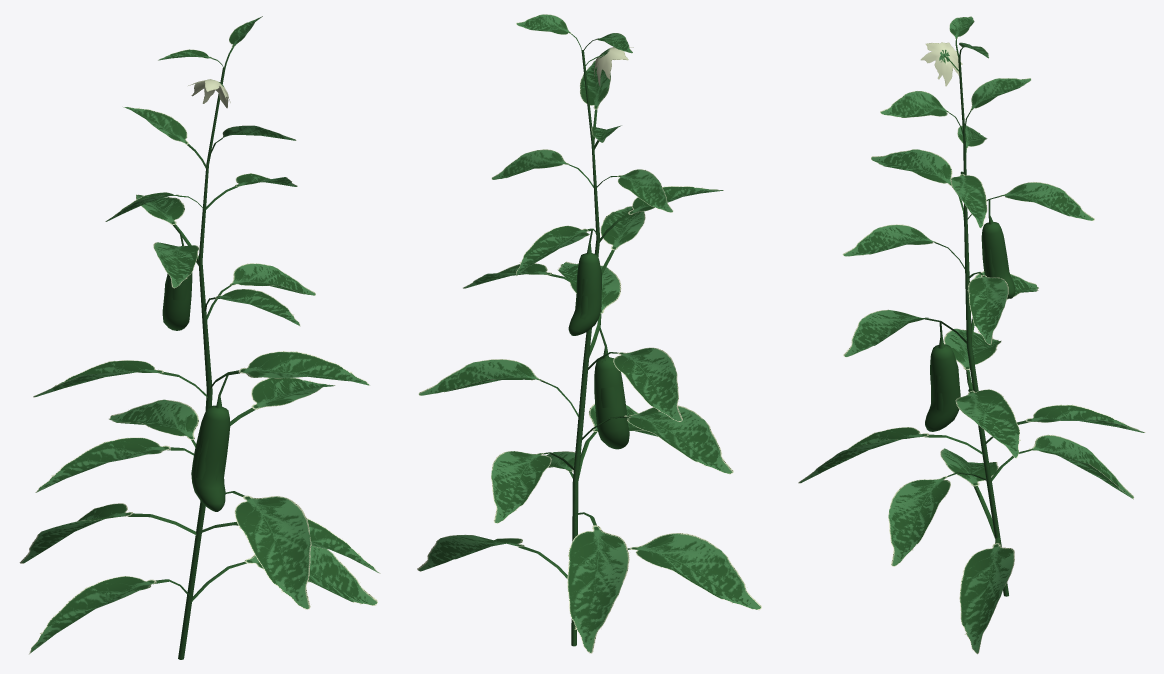
Rendered from PLANT.fbx.
3 views of the same model, side by side, from view 1: azimuth 30°, elevation 25°; view 2: azimuth 150°, elevation 25°; view 3: azimuth 270°, elevation 25° (orthographic). The views are drawn at different scales.
Parts seen in each view (by area): view 1: jalapeno_plant:LOD0LOD_0polySurface35, jalapeno_plant:LOD0LOD_0polySurface48, jalapeno_plant:LOD0LOD_0polySurface5, jalapeno_plant:LOD0LOD_0polySurface6, jalapeno_plant:LOD0LOD_0polySurface29, jalapeno_plant:LOD0LOD_0polySurface15, jalapeno_plant:LOD0LOD_0polySurface8, jalapeno_plant:LOD0LOD_0polySurface31, jalapeno_plant:LOD0LOD_0polySurface11, jalapeno_plant:LOD0LOD_0polySurface3, jalapeno_plant:LOD0LOD_0polySurface47, jalapeno_plant:LOD0LOD_0polySurface27 (+8 smaller); view 2: jalapeno_plant:LOD0LOD_0polySurface3, jalapeno_plant:LOD0LOD_0polySurface6, jalapeno_plant:LOD0LOD_0polySurface15, jalapeno_plant:LOD0LOD_0polySurface27, jalapeno_plant:LOD0LOD_0polySurface31, jalapeno_plant:LOD0LOD_0polySurface48, jalapeno_plant:LOD0LOD_0polySurface5, jalapeno_plant:LOD0LOD_0polySurface11, jalapeno_plant:LOD0LOD_0polySurface50, jalapeno_plant:LOD0LOD_0polySurface8, jalapeno_plant:LOD0LOD_0polySurface25, jalapeno_plant:LOD0LOD_0polySurface41 (+8 smaller); view 3: jalapeno_plant:LOD0LOD_0polySurface8, jalapeno_plant:LOD0LOD_0polySurface45, jalapeno_plant:LOD0LOD_0polySurface11, jalapeno_plant:LOD0LOD_0polySurface48, jalapeno_plant:LOD0LOD_0polySurface5, jalapeno_plant:LOD0LOD_0polySurface47, jalapeno_plant:LOD0LOD_0polySurface3, jalapeno_plant:LOD0LOD_0polySurface29, jalapeno_plant:LOD0LOD_0polySurface33, jalapeno_plant:LOD0LOD_0polySurface25, jalapeno_plant:LOD0LOD_0polySurface37, jalapeno_plant:LOD0LOD_0polySurface35 (+8 smaller).
Boxes of the visible parts, x1,y1,x2,y2 form: jalapeno_plant:LOD0LOD_0polySurface35: [234, 495, 311, 609]; jalapeno_plant:LOD0LOD_0polySurface48: [191, 405, 230, 511]; jalapeno_plant:LOD0LOD_0polySurface5: [178, 67, 225, 659]; jalapeno_plant:LOD0LOD_0polySurface6: [29, 576, 156, 654]; jalapeno_plant:LOD0LOD_0polySurface29: [238, 351, 369, 385]; jalapeno_plant:LOD0LOD_0polySurface15: [35, 437, 170, 492]; jalapeno_plant:LOD0LOD_0polySurface8: [244, 546, 377, 605]; jalapeno_plant:LOD0LOD_0polySurface31: [109, 399, 198, 439]; jalapeno_plant:LOD0LOD_0polySurface11: [251, 377, 335, 409]; jalapeno_plant:LOD0LOD_0polySurface3: [19, 503, 132, 563]; jalapeno_plant:LOD0LOD_0polySurface47: [230, 263, 315, 295]; jalapeno_plant:LOD0LOD_0polySurface27: [33, 360, 163, 397]; jalapeno_plant:LOD0LOD_0polySurface3: [567, 525, 629, 653]; jalapeno_plant:LOD0LOD_0polySurface6: [630, 533, 761, 609]; jalapeno_plant:LOD0LOD_0polySurface15: [624, 405, 733, 474]; jalapeno_plant:LOD0LOD_0polySurface27: [613, 347, 682, 421]; jalapeno_plant:LOD0LOD_0polySurface31: [491, 451, 551, 523]; jalapeno_plant:LOD0LOD_0polySurface48: [594, 357, 629, 449]; jalapeno_plant:LOD0LOD_0polySurface5: [571, 50, 600, 646]; jalapeno_plant:LOD0LOD_0polySurface11: [418, 359, 543, 395]; jalapeno_plant:LOD0LOD_0polySurface50: [568, 253, 601, 335]; jalapeno_plant:LOD0LOD_0polySurface8: [417, 534, 524, 571]; jalapeno_plant:LOD0LOD_0polySurface25: [516, 225, 589, 275]; jalapeno_plant:LOD0LOD_0polySurface41: [617, 169, 673, 212]; jalapeno_plant:LOD0LOD_0polySurface8: [959, 543, 1014, 654]; jalapeno_plant:LOD0LOD_0polySurface45: [888, 476, 950, 566]; jalapeno_plant:LOD0LOD_0polySurface11: [955, 389, 1020, 458]; jalapeno_plant:LOD0LOD_0polySurface48: [925, 344, 960, 431]; jalapeno_plant:LOD0LOD_0polySurface5: [958, 58, 1008, 596]; jalapeno_plant:LOD0LOD_0polySurface47: [967, 275, 1008, 344]; jalapeno_plant:LOD0LOD_0polySurface3: [1028, 434, 1134, 499]; jalapeno_plant:LOD0LOD_0polySurface29: [843, 309, 928, 357]; jalapeno_plant:LOD0LOD_0polySurface33: [871, 149, 952, 186]; jalapeno_plant:LOD0LOD_0polySurface25: [999, 182, 1094, 220]; jalapeno_plant:LOD0LOD_0polySurface37: [842, 224, 937, 256]; jalapeno_plant:LOD0LOD_0polySurface35: [798, 427, 928, 483].
Size of the model in its own units: 255 by 427 by 239.
